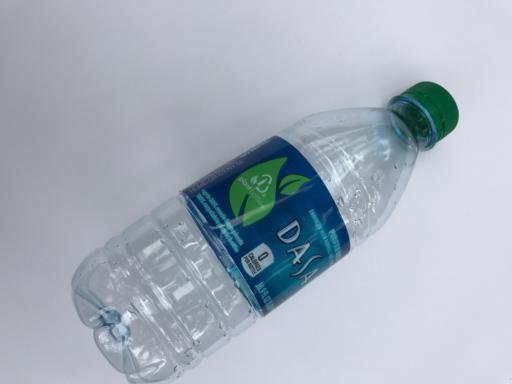PET: (70, 79, 459, 383)
dasani: (70, 79, 459, 383)
plastic: (70, 79, 459, 383)
water: (70, 79, 459, 383)
